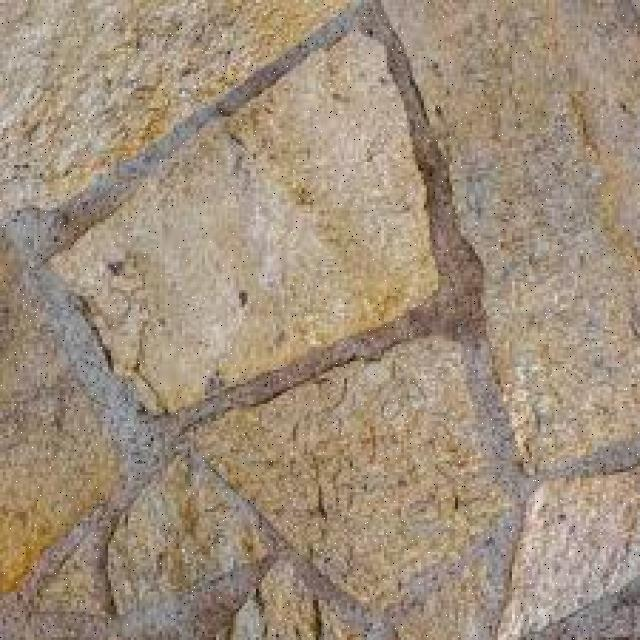Metamorphic: (8, 6, 634, 632)
